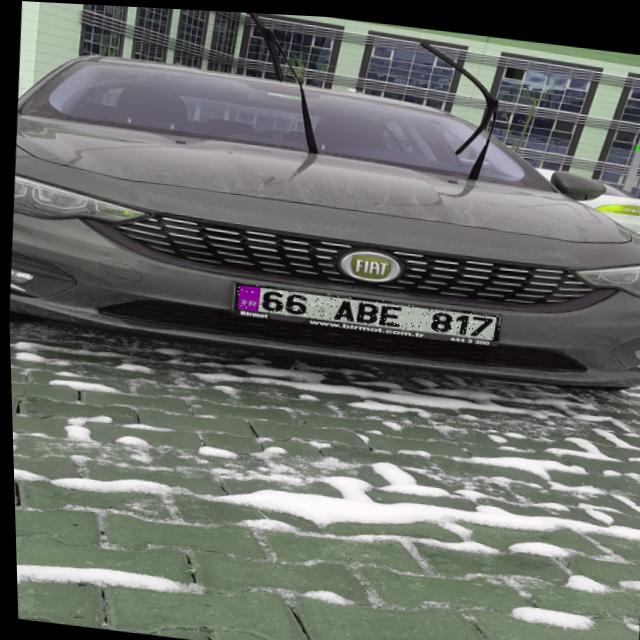license_plate: (232, 280, 499, 336)
